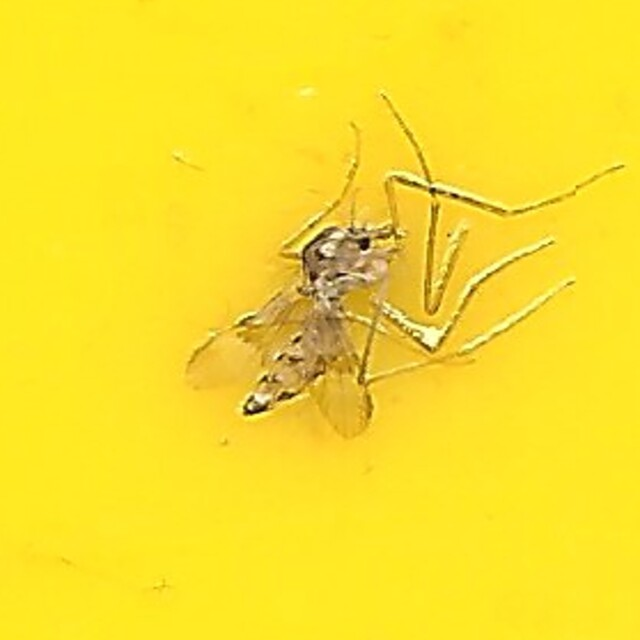Nematocera: (229, 204, 411, 436)
